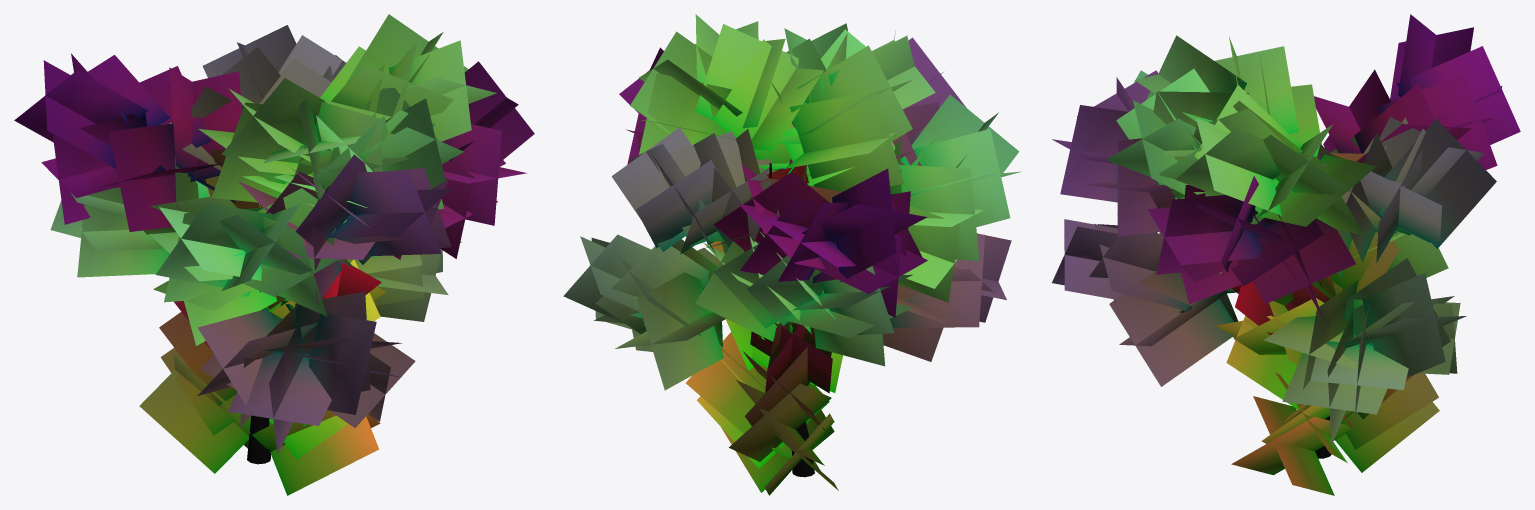
File: URP_P3_Tree_10_LOD_2.fbx
3 renders of one model, left to right at view 1: azimuth 30°, elevation 25°; view 2: azimuth 150°, elevation 25°; view 3: azimuth 270°, elevation 25°, orthographic. The views are drawn at different scales.
Visible parts, largest first — view 1: Tree_10_LOD_2; view 2: Tree_10_LOD_2; view 3: Tree_10_LOD_2.
Part boxes in pixels (x1,y1,x2,y2): Tree_10_LOD_2: (14,14,534,495); Tree_10_LOD_2: (563,14,1021,495); Tree_10_LOD_2: (1052,14,1520,495).
Bounding box in the file's own units: 491 × 529 × 520.
